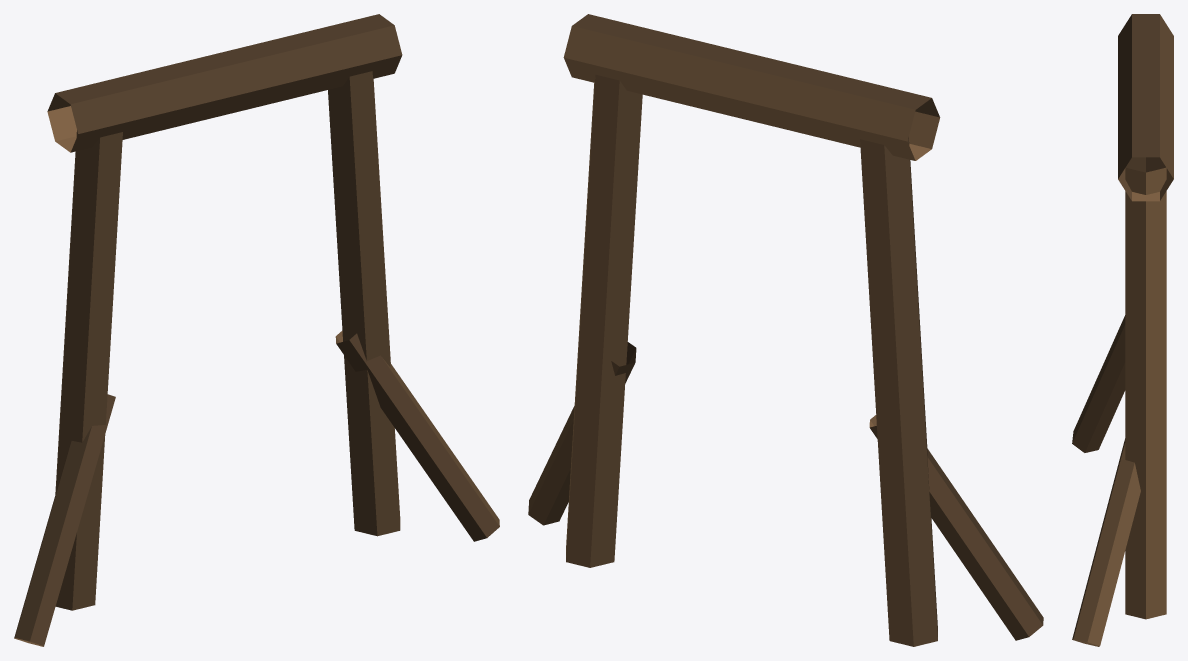
The picture shows the model from 3 angles, left to right: view 1: azimuth 30°, elevation 25°; view 2: azimuth 150°, elevation 25°; view 3: azimuth 270°, elevation 25°; orthographic projection. The views are drawn at different scales.
Parts seen in each view (by area): view 1: ecda10dc4bd26299e3e9becc4c96f4f42553f164685b56e47bfed91aa061; view 2: ecda10dc4bd26299e3e9becc4c96f4f42553f164685b56e47bfed91aa061; view 3: ecda10dc4bd26299e3e9becc4c96f4f42553f164685b56e47bfed91aa061.
Boxes of the visible parts, left/top/right/bottom form: ecda10dc4bd26299e3e9becc4c96f4f42553f164685b56e47bfed91aa061: left=14, top=14, right=499, bottom=646; ecda10dc4bd26299e3e9becc4c96f4f42553f164685b56e47bfed91aa061: left=528, top=14, right=1043, bottom=646; ecda10dc4bd26299e3e9becc4c96f4f42553f164685b56e47bfed91aa061: left=1072, top=14, right=1173, bottom=646.
Bounding box in the file's own units: 2.54 × 2.56 × 0.5102.
Materials: 1 (1 with a texture image).
